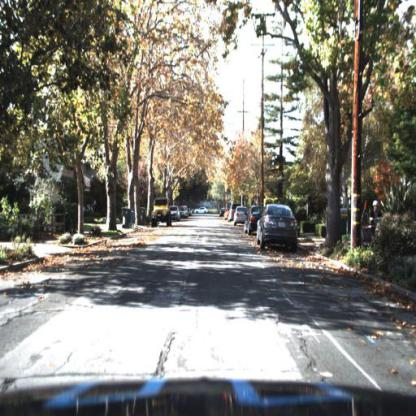car: (258, 199, 301, 253), (148, 196, 174, 229), (245, 203, 261, 237), (234, 201, 247, 229), (229, 203, 239, 224), (173, 202, 182, 223), (181, 203, 189, 222)
pedestrian: (372, 198, 384, 249)
